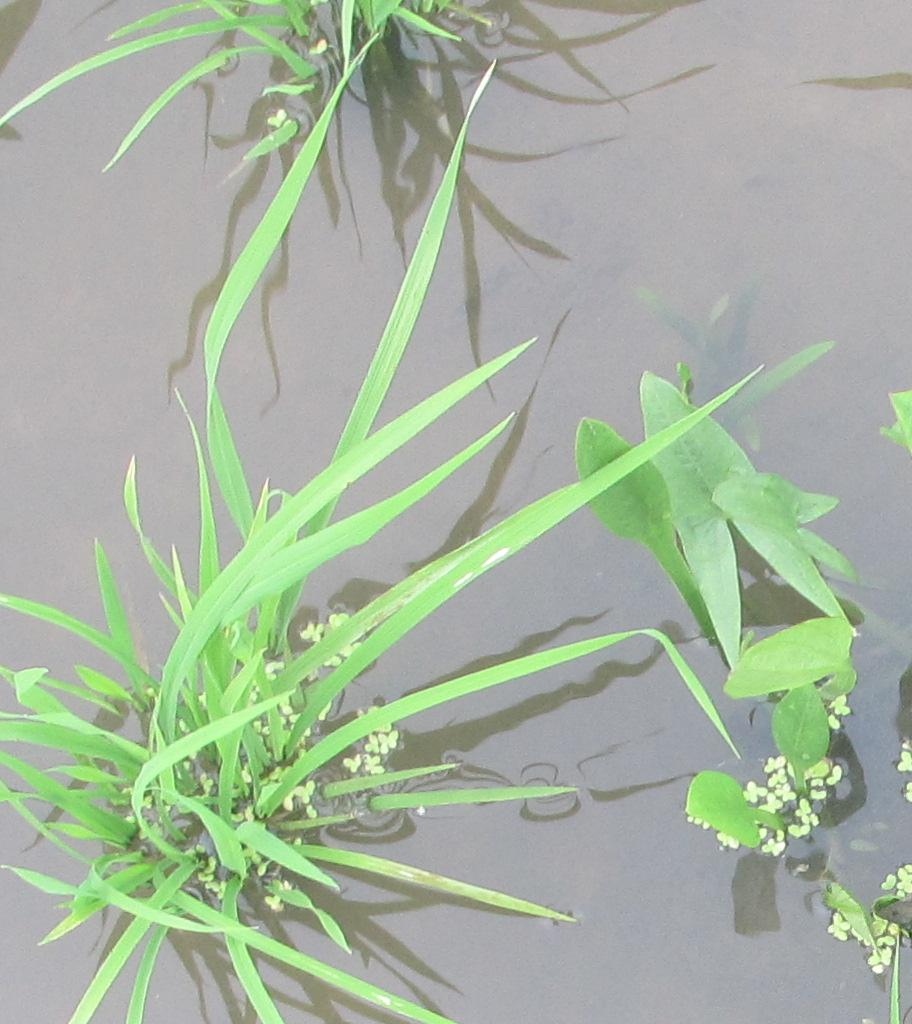Weed: (619, 388, 855, 857)
